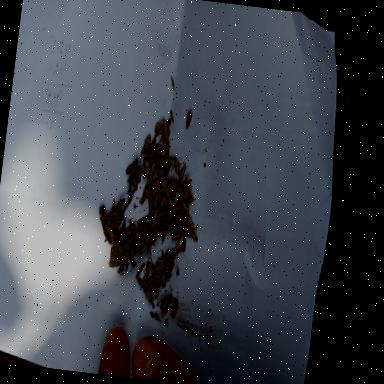pbw: (160, 116, 172, 142), (164, 154, 176, 178), (176, 195, 190, 214), (183, 176, 196, 195), (169, 296, 179, 320), (104, 226, 116, 246), (144, 284, 156, 304), (158, 154, 172, 170), (135, 214, 148, 231), (147, 201, 158, 220), (120, 249, 128, 274), (170, 156, 181, 174), (135, 260, 146, 278), (114, 196, 126, 212), (165, 182, 177, 198), (128, 156, 136, 180), (164, 192, 176, 208), (154, 117, 166, 133), (151, 186, 159, 210), (178, 206, 190, 222), (178, 180, 188, 199), (160, 219, 168, 242), (154, 154, 166, 169), (184, 188, 196, 203), (178, 162, 187, 182), (143, 233, 151, 255), (184, 108, 192, 130), (126, 186, 134, 208), (187, 228, 198, 244), (150, 142, 158, 164), (139, 184, 147, 206), (180, 223, 192, 237), (162, 128, 170, 148), (148, 264, 158, 280), (152, 218, 162, 234), (154, 124, 164, 140), (170, 229, 183, 241), (154, 140, 167, 152), (144, 187, 155, 201), (150, 206, 158, 225), (172, 243, 182, 258), (162, 258, 170, 276), (142, 158, 150, 176), (135, 158, 144, 174), (148, 282, 160, 294), (147, 136, 156, 152), (161, 272, 171, 286), (161, 174, 168, 194), (107, 205, 114, 225), (166, 178, 180, 188), (124, 161, 134, 175), (166, 261, 174, 278), (180, 218, 192, 229), (141, 225, 147, 247), (135, 276, 145, 289), (144, 151, 154, 164), (172, 223, 182, 236), (154, 172, 162, 188), (143, 260, 150, 278), (181, 231, 187, 252), (130, 176, 138, 191), (132, 162, 140, 176), (129, 252, 137, 266), (166, 220, 176, 231), (164, 140, 170, 158), (154, 148, 166, 157), (138, 231, 144, 249), (158, 195, 166, 208), (144, 276, 154, 286), (184, 195, 193, 206), (168, 206, 175, 220), (161, 258, 167, 274), (156, 268, 162, 284), (134, 230, 140, 246), (100, 204, 108, 216), (128, 170, 136, 182), (153, 158, 160, 171), (146, 198, 152, 212), (146, 172, 152, 186), (154, 263, 163, 272), (136, 222, 144, 232), (156, 223, 164, 233), (140, 242, 146, 255), (98, 206, 104, 219), (172, 185, 183, 192), (152, 168, 158, 180), (110, 209, 119, 217), (147, 228, 156, 236), (122, 228, 132, 235), (124, 257, 129, 271), (164, 250, 172, 258), (149, 234, 157, 242), (132, 175, 140, 183), (171, 219, 180, 226), (173, 213, 182, 220), (128, 182, 132, 196), (124, 243, 130, 248), (124, 246, 128, 250)
